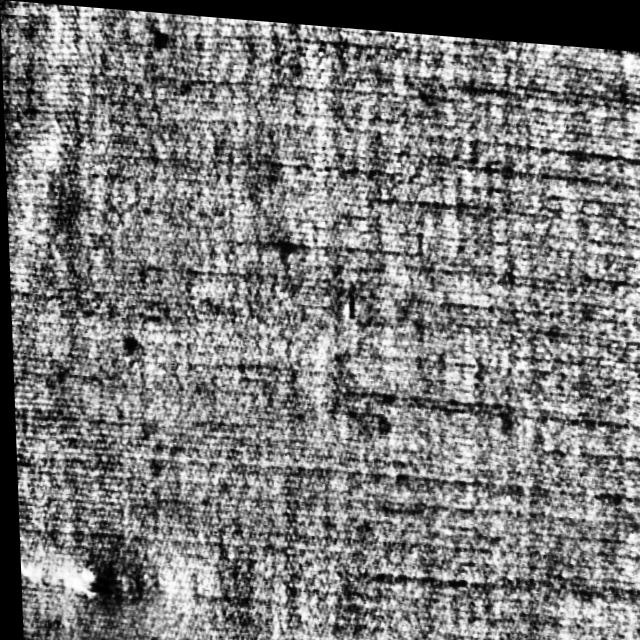Stitch: (18, 538, 129, 620)
